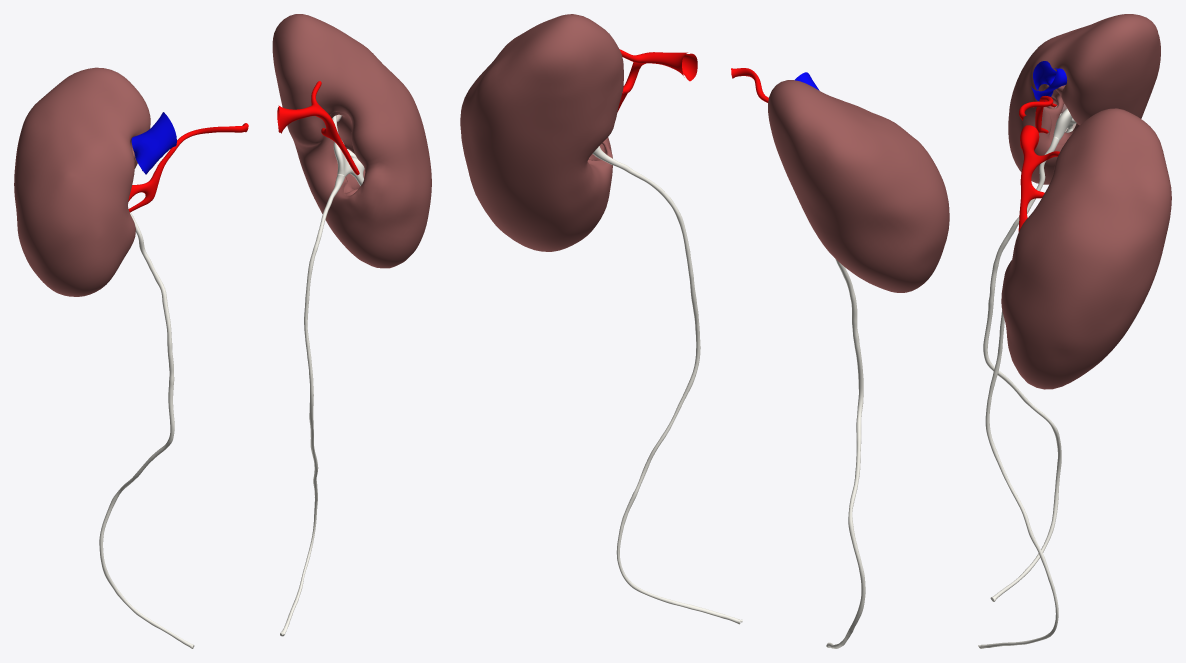
File: kidneys.glb
3 renders of one model, left to right at view 1: azimuth 30°, elevation 25°; view 2: azimuth 150°, elevation 25°; view 3: azimuth 270°, elevation 25°, orthographic. The views are drawn at different scales.
Visible parts, largest first — view 1: VH_F_kidney_capsule_L, VH_F_kidney_capsule_R, VH_F_right_ureter, VH_F_left_ureter, VH_F_right_renal_vein, VH_F_left_renal_artery, VH_F_right_renal_artery, VH_F_hilum_of_kidney_L; view 2: VH_F_kidney_capsule_L, VH_F_kidney_capsule_R, VH_F_left_ureter, VH_F_right_ureter, VH_F_left_renal_artery; view 3: VH_F_kidney_capsule_L, VH_F_kidney_capsule_R, VH_F_right_ureter, VH_F_left_ureter, VH_F_left_renal_artery, VH_F_right_renal_vein, VH_F_hilum_of_kidney_R, VH_F_right_renal_artery, VH_F_renal_pelvis_R.
Boxes of the visible parts, x1,y1,x2,y2 form: VH_F_kidney_capsule_L: [272, 14, 431, 268]; VH_F_kidney_capsule_R: [14, 67, 150, 296]; VH_F_right_ureter: [99, 212, 194, 648]; VH_F_left_ureter: [280, 174, 344, 636]; VH_F_right_renal_vein: [131, 112, 176, 174]; VH_F_left_renal_artery: [277, 81, 359, 175]; VH_F_right_renal_artery: [128, 123, 248, 212]; VH_F_hilum_of_kidney_L: [329, 112, 365, 195]; VH_F_kidney_capsule_L: [460, 14, 623, 251]; VH_F_kidney_capsule_R: [768, 80, 949, 292]; VH_F_left_ureter: [592, 146, 742, 624]; VH_F_right_ureter: [826, 258, 865, 648]; VH_F_left_renal_artery: [617, 49, 697, 111]; VH_F_kidney_capsule_L: [1001, 108, 1171, 389]; VH_F_kidney_capsule_R: [1008, 14, 1160, 184]; VH_F_right_ureter: [983, 137, 1061, 601]; VH_F_left_ureter: [978, 310, 1058, 648]; VH_F_left_renal_artery: [1018, 125, 1059, 231]; VH_F_right_renal_vein: [1031, 61, 1067, 101]; VH_F_hilum_of_kidney_R: [1043, 85, 1078, 145]; VH_F_right_renal_artery: [1019, 96, 1056, 133]; VH_F_renal_pelvis_R: [1053, 108, 1072, 140].
Bounding box in the file's own units: 2.22 × 2.92 × 0.882.
